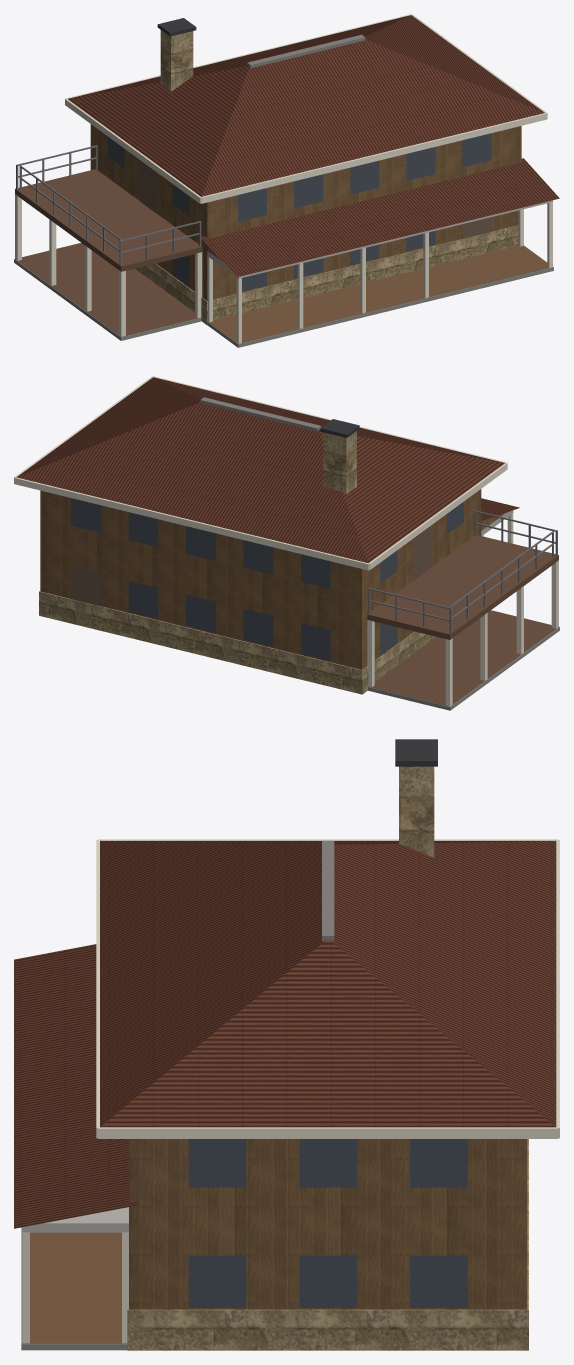
File: cr-ranch-two.towns-v1.lod1.glb
3 views of the same model, one above another, from view 1: azimuth 30°, elevation 25°; view 2: azimuth 150°, elevation 25°; view 3: azimuth 270°, elevation 25° (orthographic). The views are drawn at different scales.
Parts seen in each view (by area): view 1: cr-ranch-two; view 2: cr-ranch-two; view 3: cr-ranch-two.
Part boxes in pixels (x1,y1,x2,y2): cr-ranch-two: [14, 14, 559, 347]; cr-ranch-two: [14, 376, 559, 710]; cr-ranch-two: [14, 739, 559, 1350].
Bounding box in the file's own units: 18.37 × 9.54 × 12.34.
4 materials, 3 textured.
